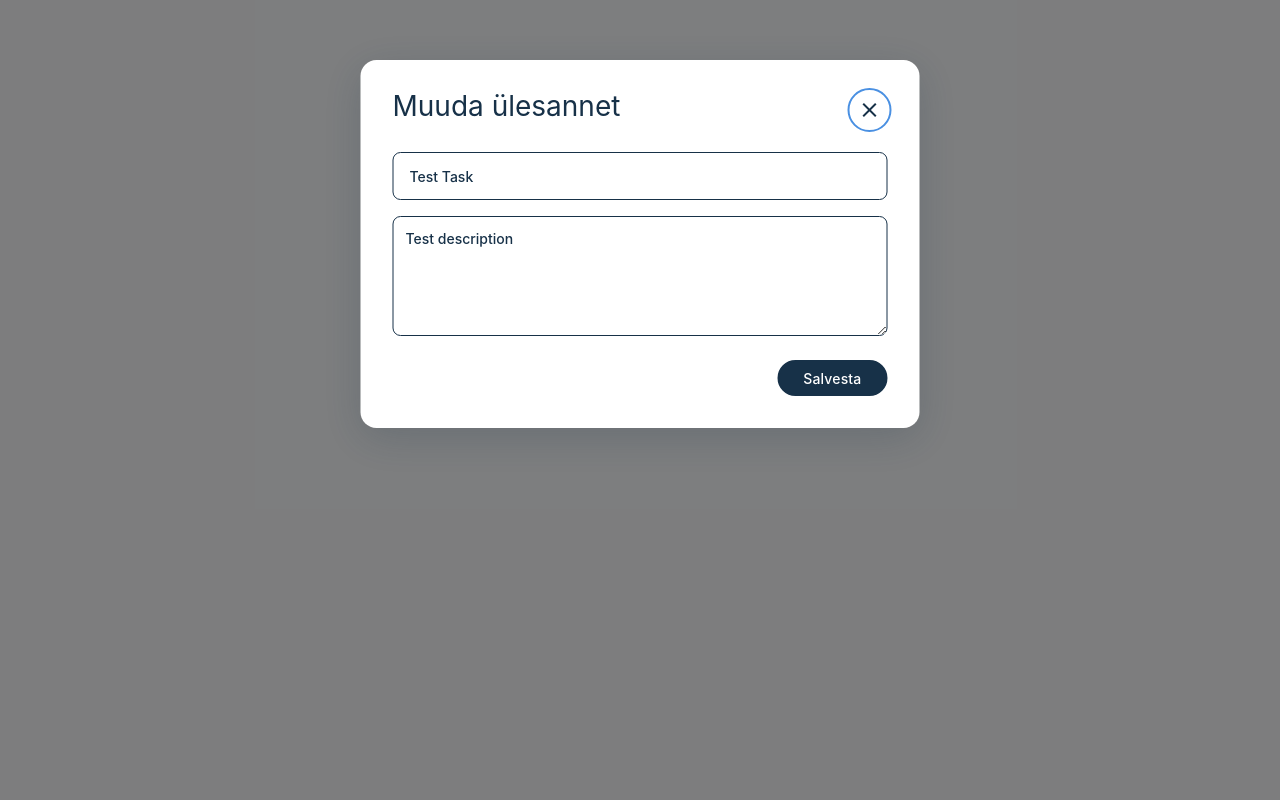
Test case: TaskEditModal › group 2 › group 2 › group 2 › group 2 › group 2 › error handling › shows error on save failure
Click the button "Salvesta" at (832, 378), box top-left (777, 360), bottom-right (888, 396)
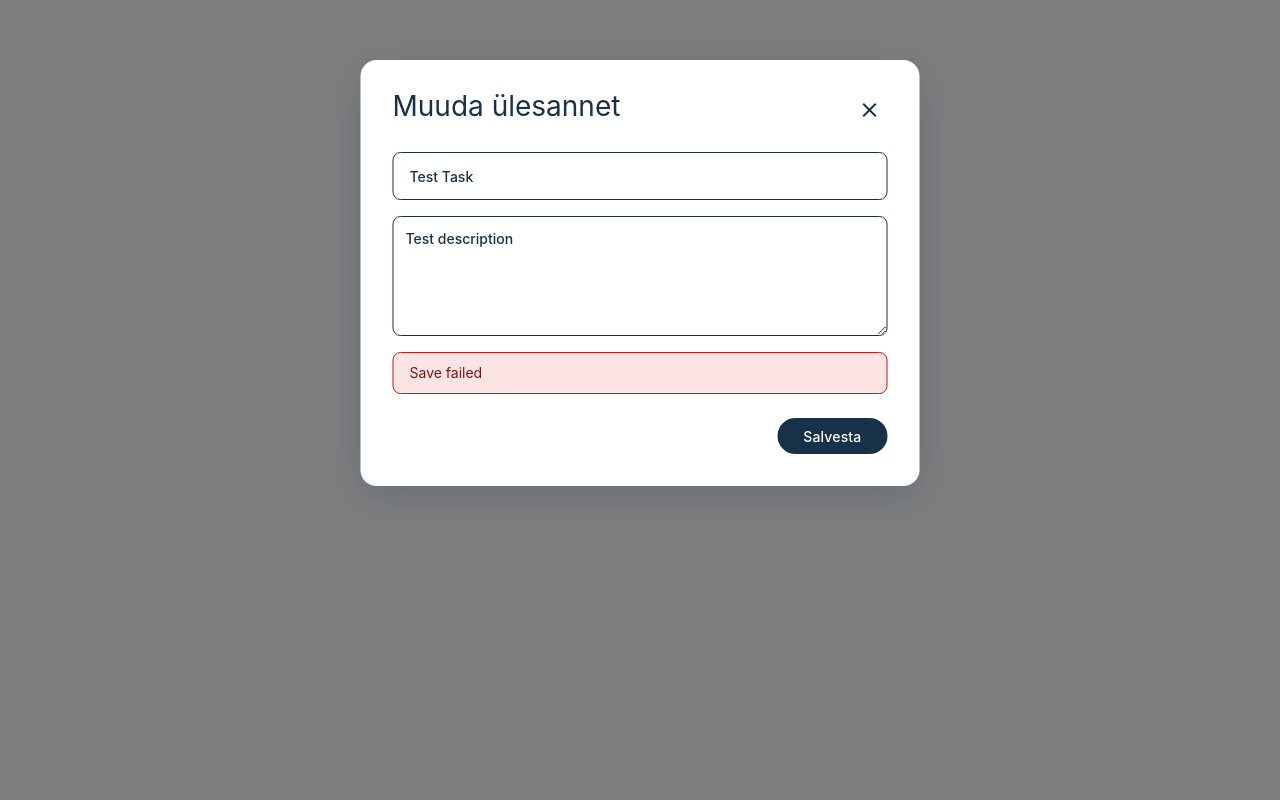
Now the text "Save failed" is shown, box top-left (410, 364), bottom-right (482, 381)
